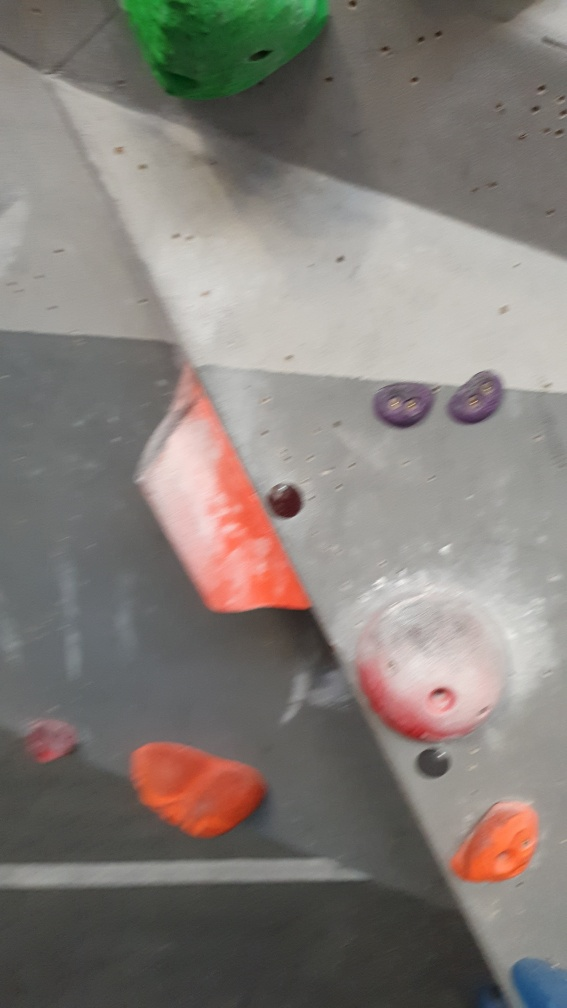Hand Start: (265, 477, 307, 525), (415, 741, 452, 786)
Pinch: (130, 362, 316, 621)
Sloper: (355, 588, 505, 737)
